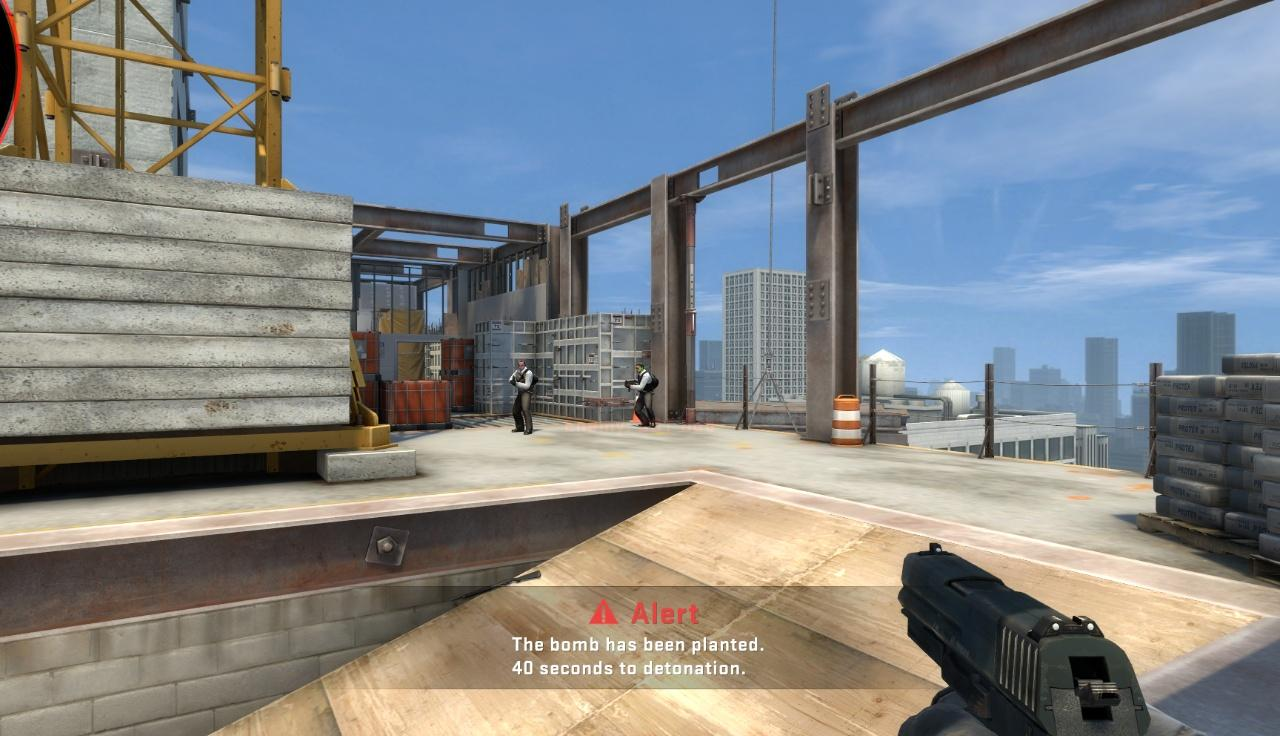pistol: (897, 534, 1154, 736)
tt: (510, 358, 533, 434), (633, 363, 655, 427)
tthead: (517, 360, 526, 369), (636, 364, 644, 373)
